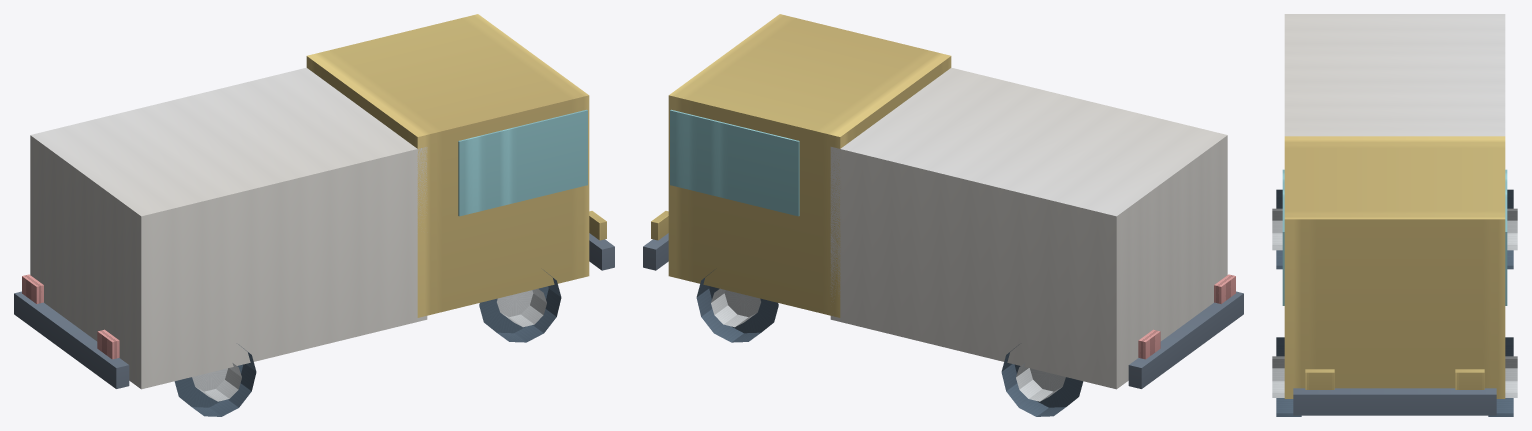
Rendered from light_truck.glb.
The picture shows the model from 3 angles, left to right: view 1: azimuth 30°, elevation 25°; view 2: azimuth 150°, elevation 25°; view 3: azimuth 270°, elevation 25°; orthographic projection.
Parts seen in each view (by area): view 1: light_truck; view 2: light_truck; view 3: light_truck.
Boxes of the visible parts, box(x1,y1,x2,y2) form: light_truck: box(14, 14, 614, 416); light_truck: box(643, 14, 1243, 416); light_truck: box(1272, 14, 1517, 416).
Bounding box in the file's own units: 5.44 × 2.38 × 2.34.
Materials: 1 (1 with a texture image).
